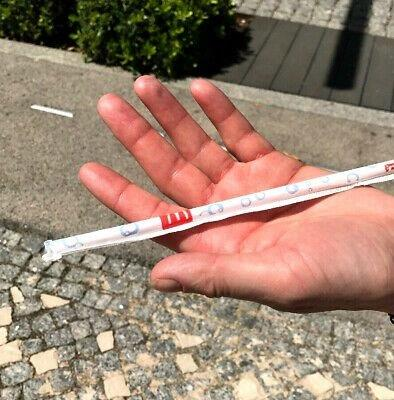sedotan: (48, 160, 394, 258)
